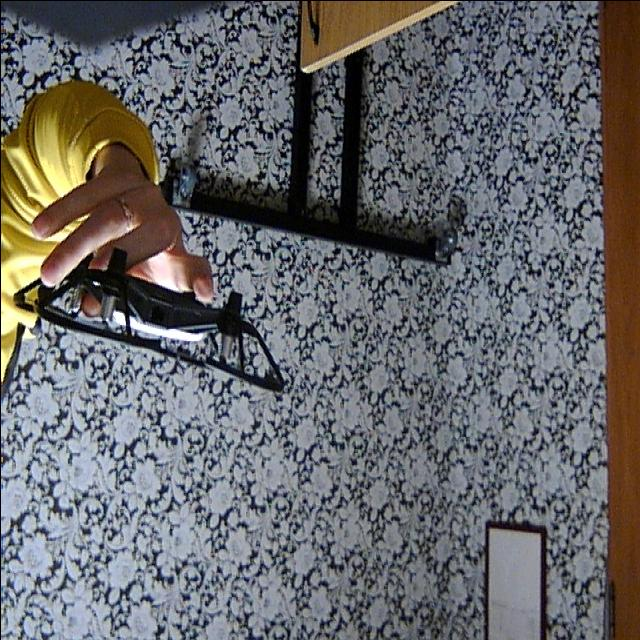drone: (5, 217, 300, 411)
